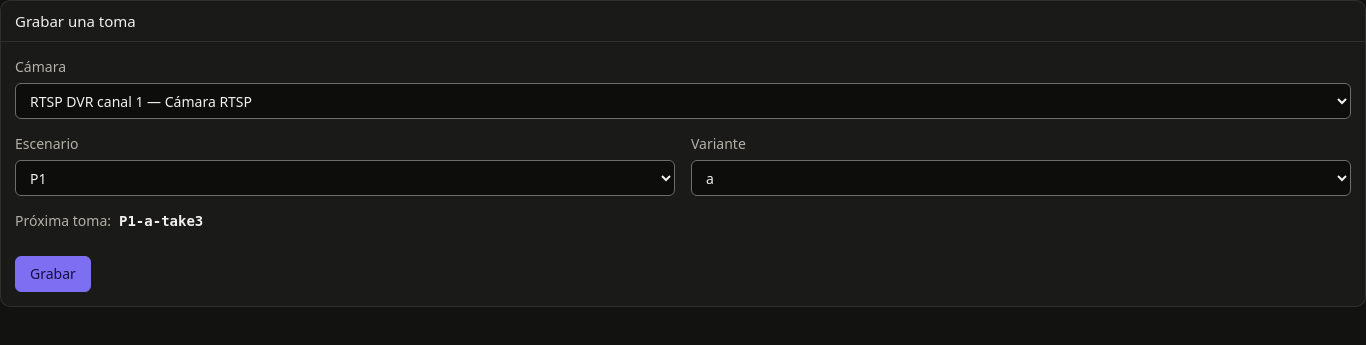
Test case: RecordPanel › mientras graba, consulta el backend periodicamente y muestra elapsed_ms/size_bytes de ahi
The width and height of the screenshot is (1366, 345).
expect the text "P1-a-take3" is shown: met, box [119,211,203,232]
Click the button "Grabar" at (53, 274), box [15,256,91,292]
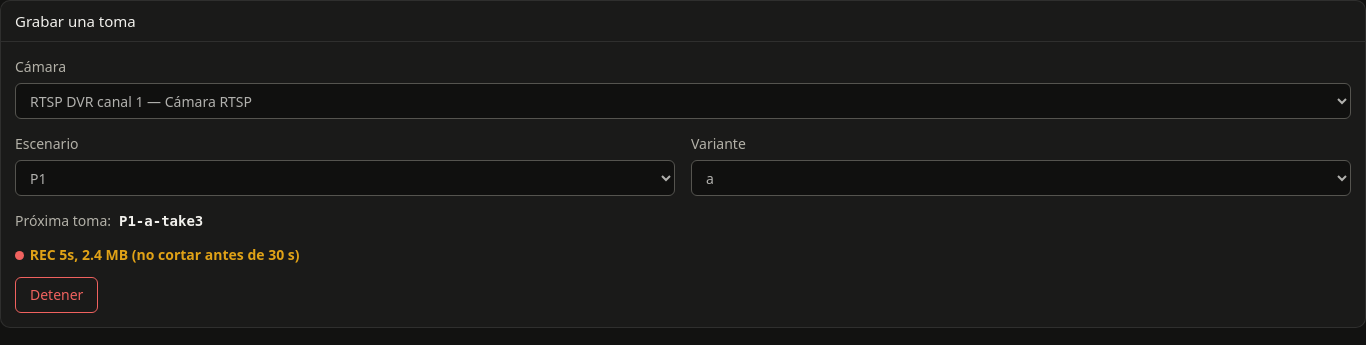
expect the button "Detener" is shown: met, box [15,277,98,313]
expect the text "REC 5s, 2.4 MB (no cortar antes de 30 s)" is shown: met, box [15,245,300,264]
